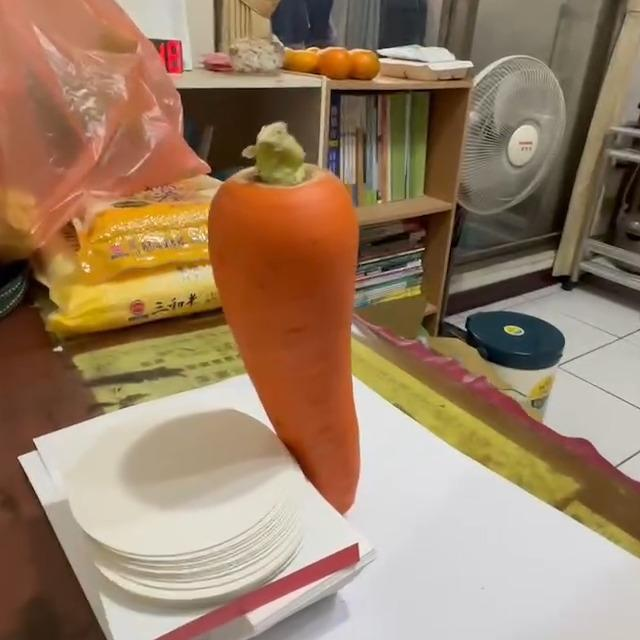carrot: (208, 126, 365, 518)
